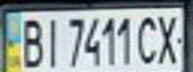1: (115, 12, 136, 65), (100, 12, 118, 66)
4: (81, 12, 100, 66)
7: (63, 13, 84, 69)
B: (15, 14, 45, 70)
C: (136, 11, 163, 65)
I: (39, 13, 63, 69)
X: (154, 10, 184, 65)
